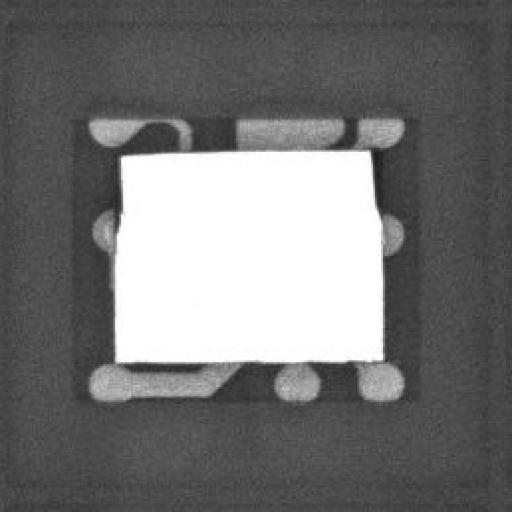DIE_BROKEN: (363, 146, 381, 226), (111, 152, 121, 246)
